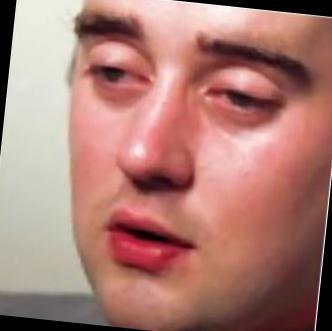Drunk: (70, 9, 312, 326)
